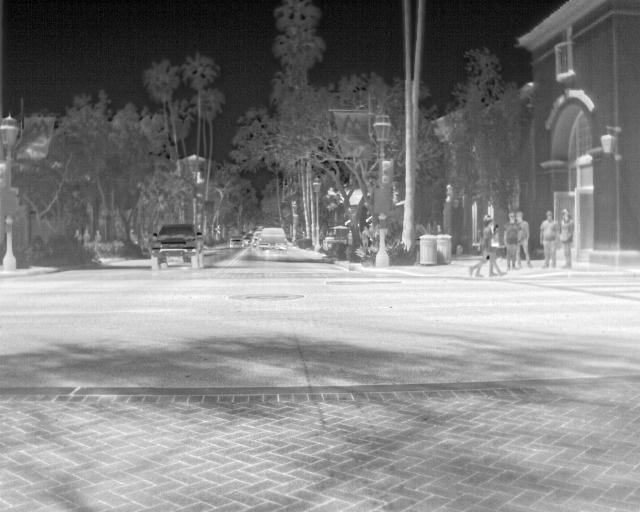bicycle: (148, 222, 203, 270), (257, 225, 289, 255), (250, 229, 264, 252), (227, 233, 246, 249)
empty: (469, 218, 505, 279), (537, 210, 559, 268), (514, 211, 534, 266), (559, 208, 575, 269), (506, 213, 521, 268), (360, 223, 375, 252), (70, 226, 83, 244), (80, 226, 92, 244), (92, 227, 105, 243)
